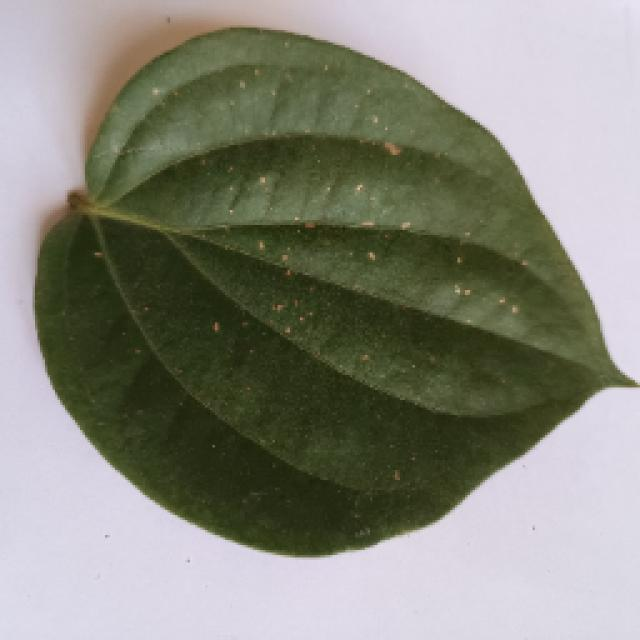pollu-disease: (38, 28, 630, 558)
